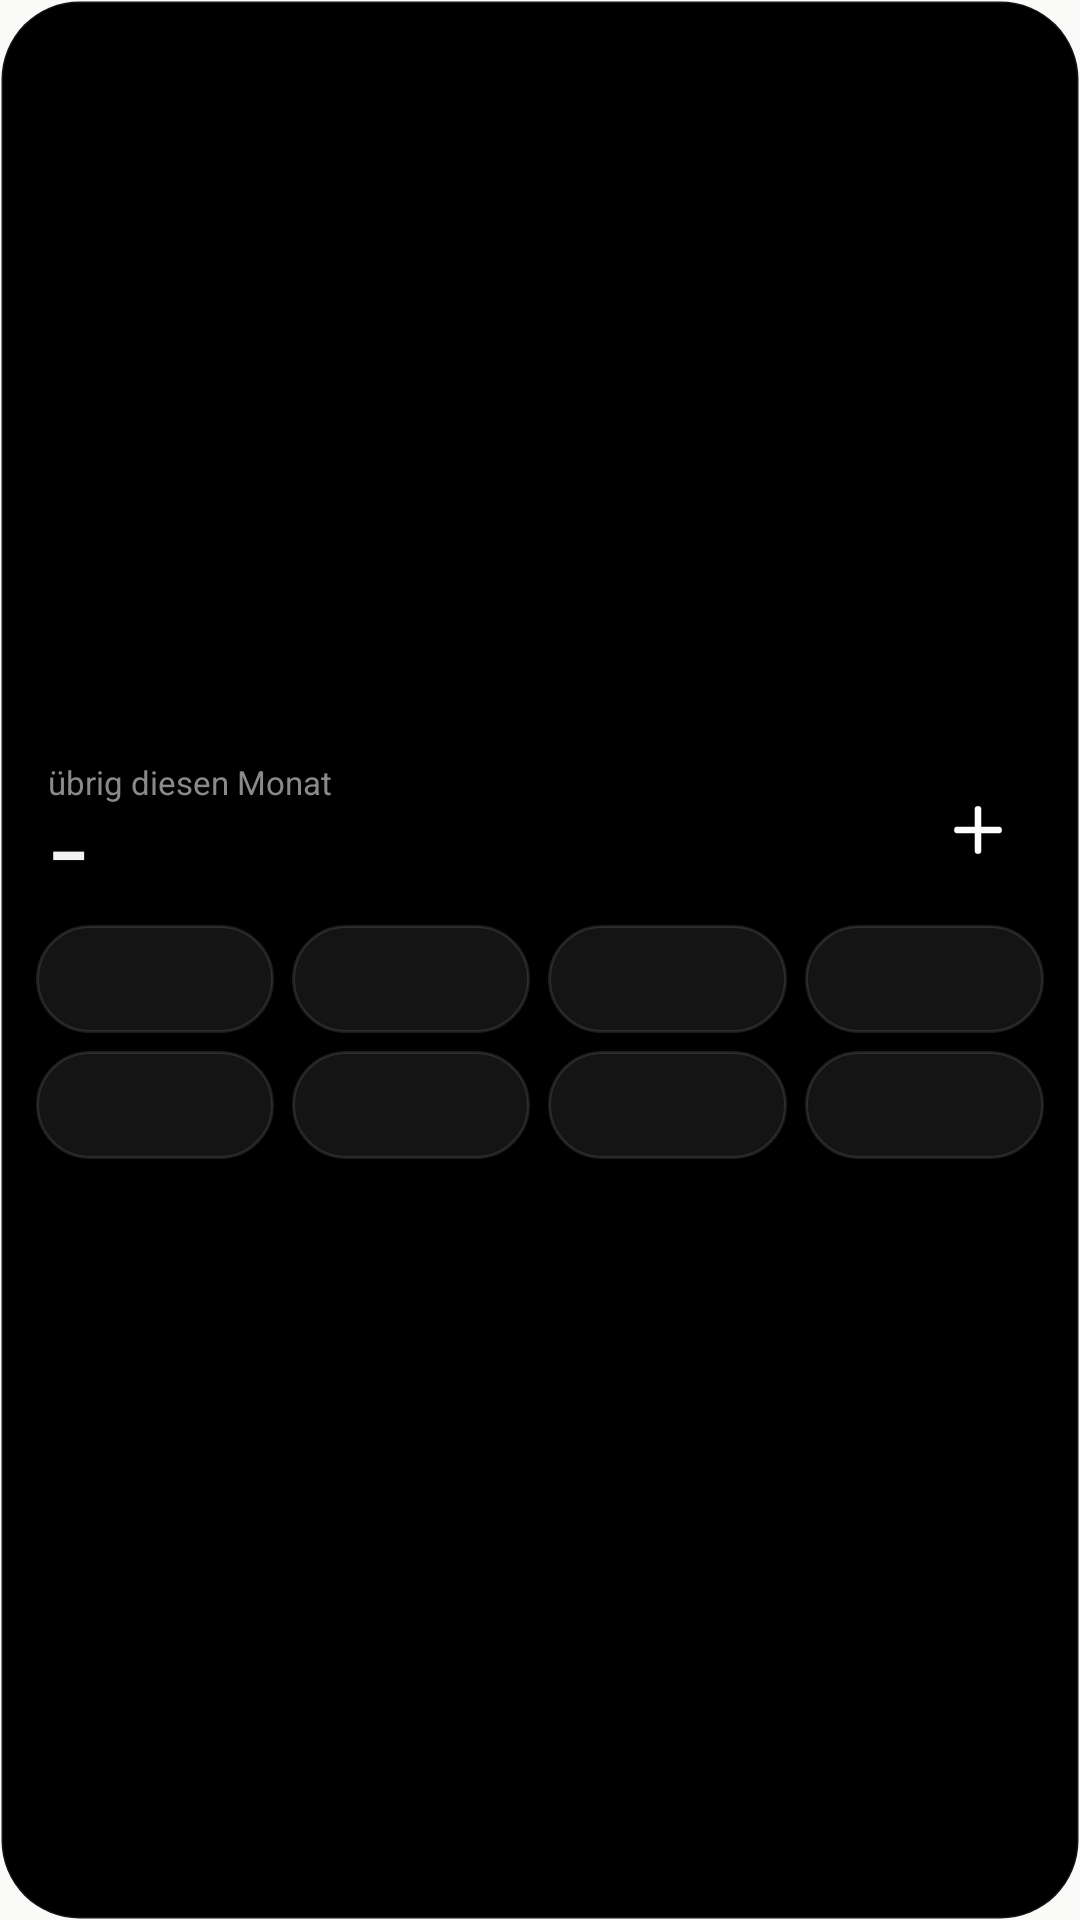

Screen size 1080 × 1920. Icon name, then its center in pixels as point (x, y):
Ausgabe eintragen: point (978, 830)
